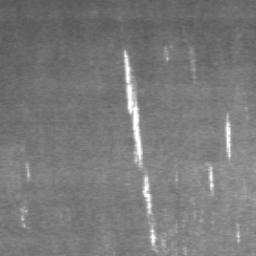Bright scratch: (125, 53, 144, 166), (142, 176, 151, 215), (225, 115, 230, 155), (209, 168, 214, 191), (22, 208, 28, 225), (25, 162, 31, 178), (235, 224, 240, 240), (150, 230, 155, 245)
